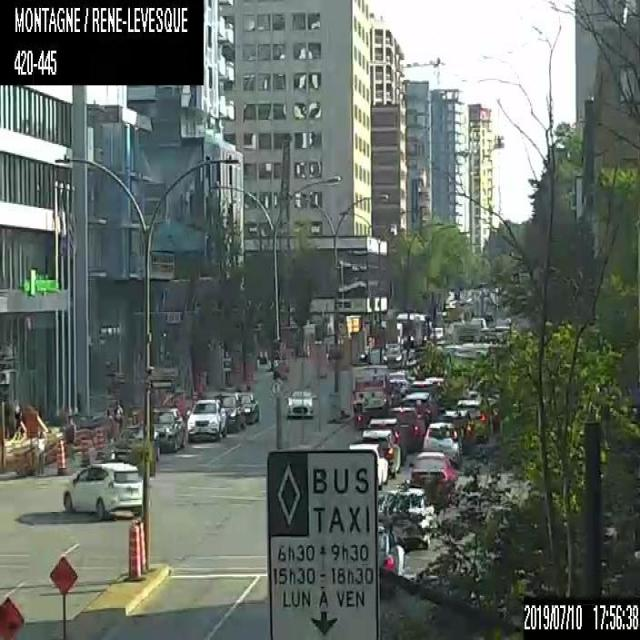construction: (50, 554, 77, 636), (124, 522, 143, 581), (0, 594, 22, 638), (24, 410, 37, 472), (134, 520, 146, 573), (80, 432, 90, 467), (56, 438, 65, 474), (95, 424, 104, 456), (245, 374, 250, 389)
vehicle: (62, 458, 142, 519), (376, 483, 436, 548), (409, 450, 456, 505), (350, 370, 389, 428), (109, 423, 159, 464), (141, 405, 183, 452), (345, 442, 388, 487), (422, 420, 461, 468), (362, 429, 401, 475), (368, 416, 406, 462), (185, 398, 227, 439), (386, 406, 421, 448), (441, 407, 472, 452), (456, 398, 488, 439), (213, 392, 245, 430), (409, 380, 441, 416), (400, 392, 432, 423), (284, 387, 317, 417), (424, 375, 446, 406), (238, 392, 259, 424), (382, 344, 406, 366), (388, 371, 409, 392)
